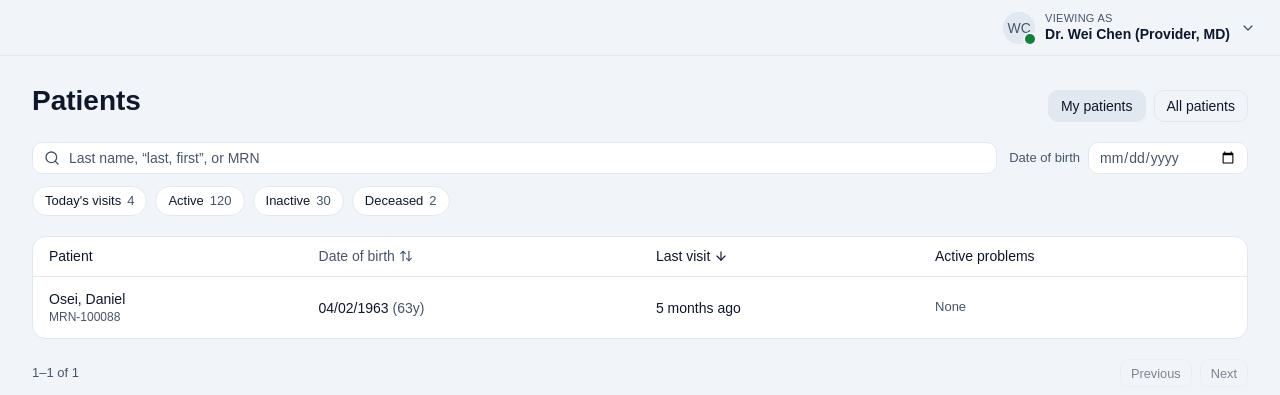
search › clears the search from an × in the box, with no other clear button
Type "osei" into the search field named "Search patients" at (515, 158), box [32,142,997,174]
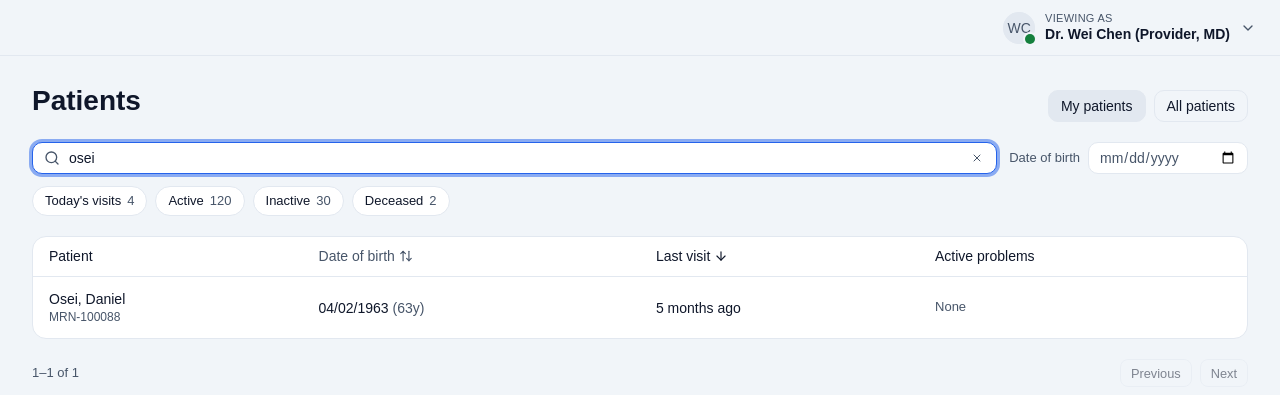
Click the button named "Clear search text" at (977, 158), box [965,146,989,170]
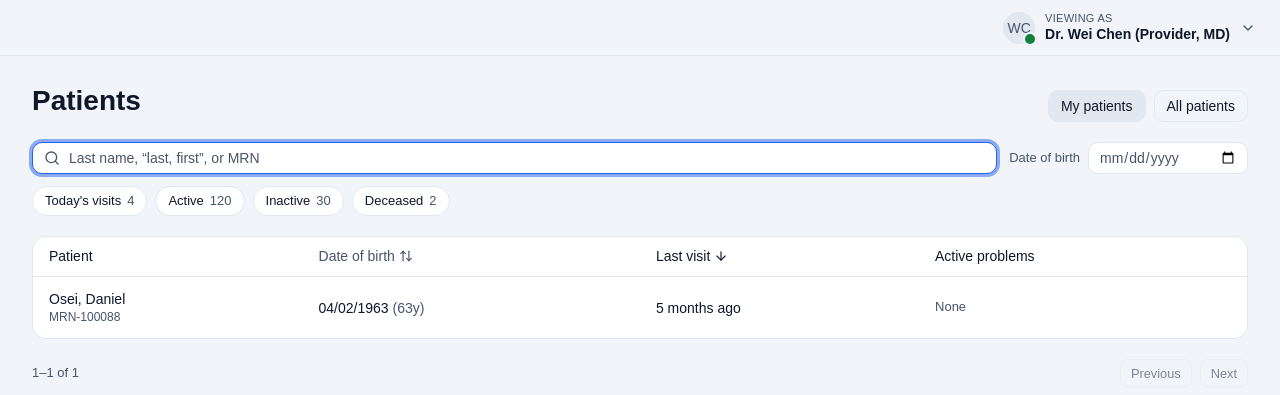
Expected: the search field named "Search patients" is empty, [32,142,997,174]
